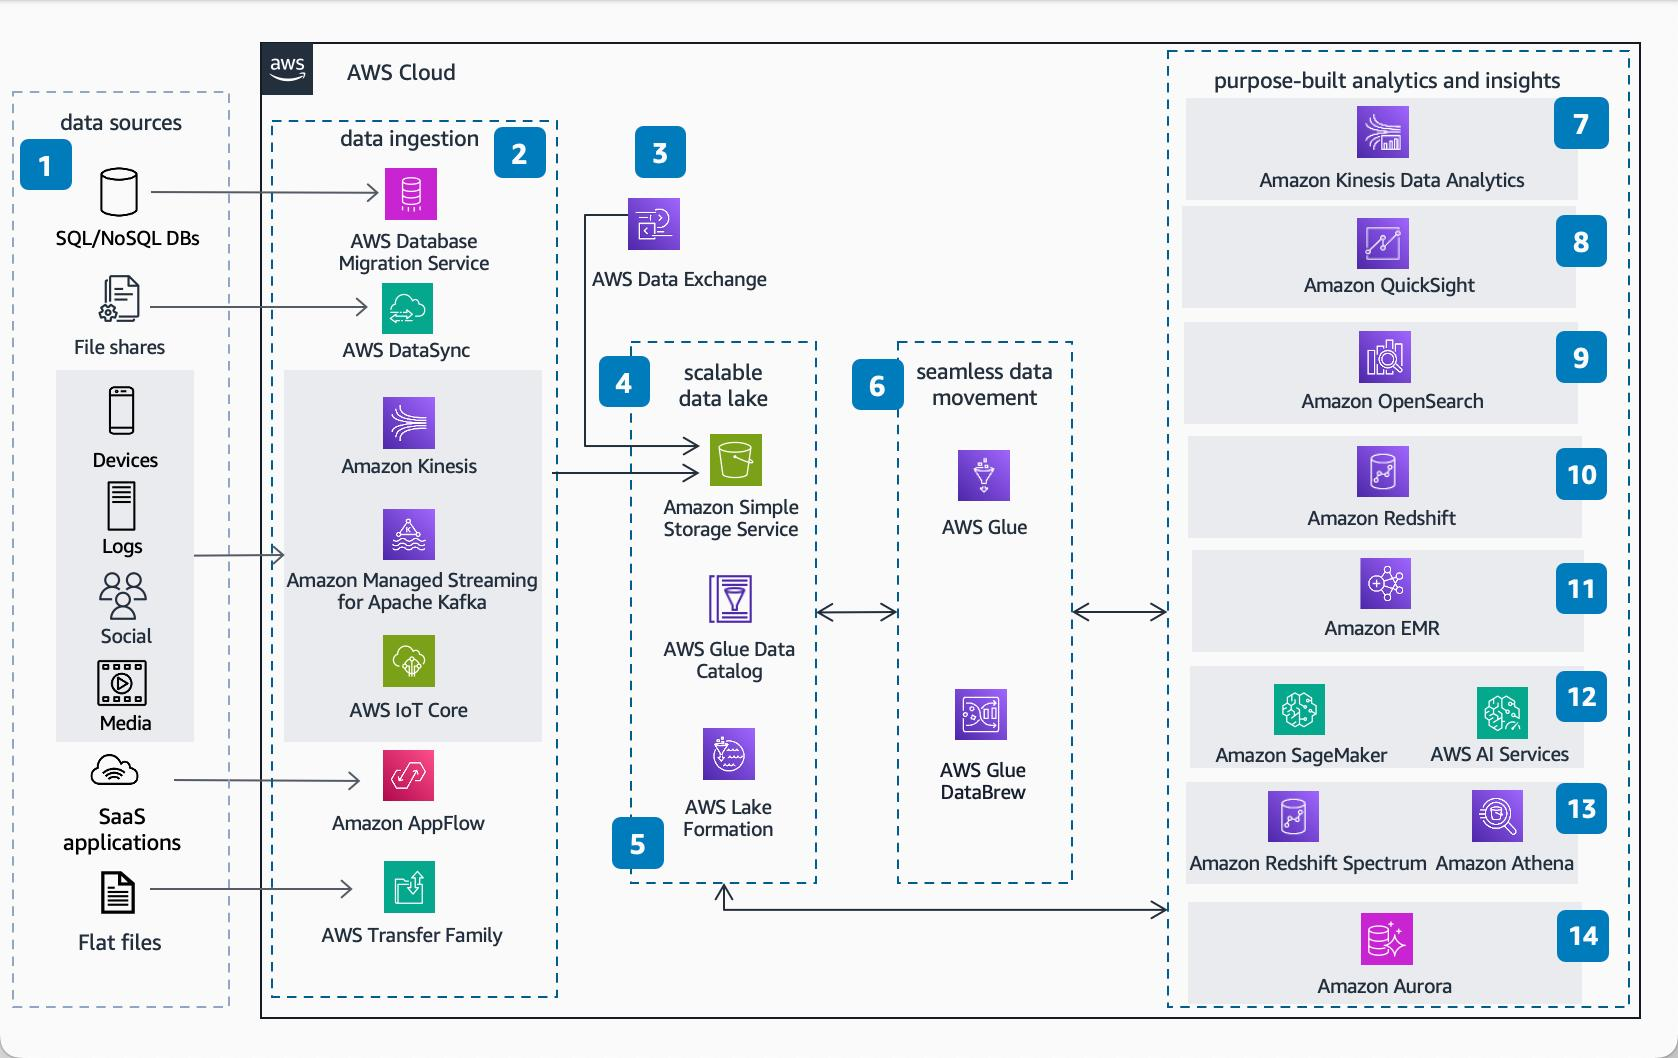Backend: (1364, 561, 1412, 609), (959, 452, 1009, 500), (960, 689, 1010, 734), (710, 570, 753, 620)
Configuration: (381, 634, 434, 687), (706, 730, 753, 775), (390, 171, 434, 215)
Database: (1362, 447, 1406, 496), (1366, 914, 1409, 964), (1271, 790, 1314, 839), (1477, 795, 1520, 839)
Frontend: (1365, 222, 1407, 272)
Macine Learning: (1485, 690, 1528, 739), (1277, 690, 1322, 731)
Messaging: (1360, 104, 1414, 155), (385, 513, 431, 563), (390, 400, 431, 449)
Search: (1364, 334, 1414, 380)
Storage: (709, 435, 759, 484)
Workflow Engine: (385, 864, 436, 914), (386, 748, 436, 798), (388, 285, 433, 334)
